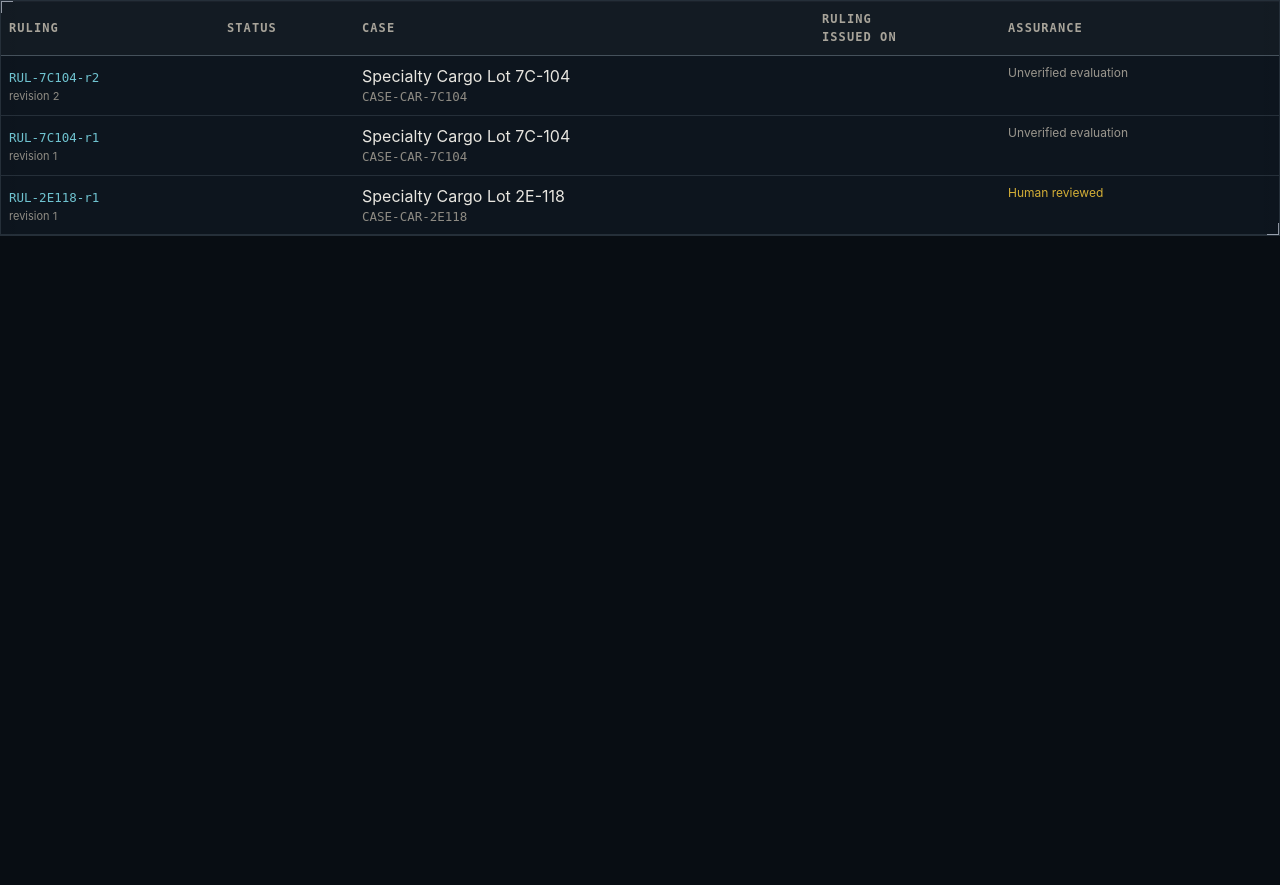
a selection is a link here too › moves through the register with the arrow keys
Click the button "RUL-7C104-r2 revision 2". click: click(110, 84)
box: left=9, top=64, right=211, bottom=104
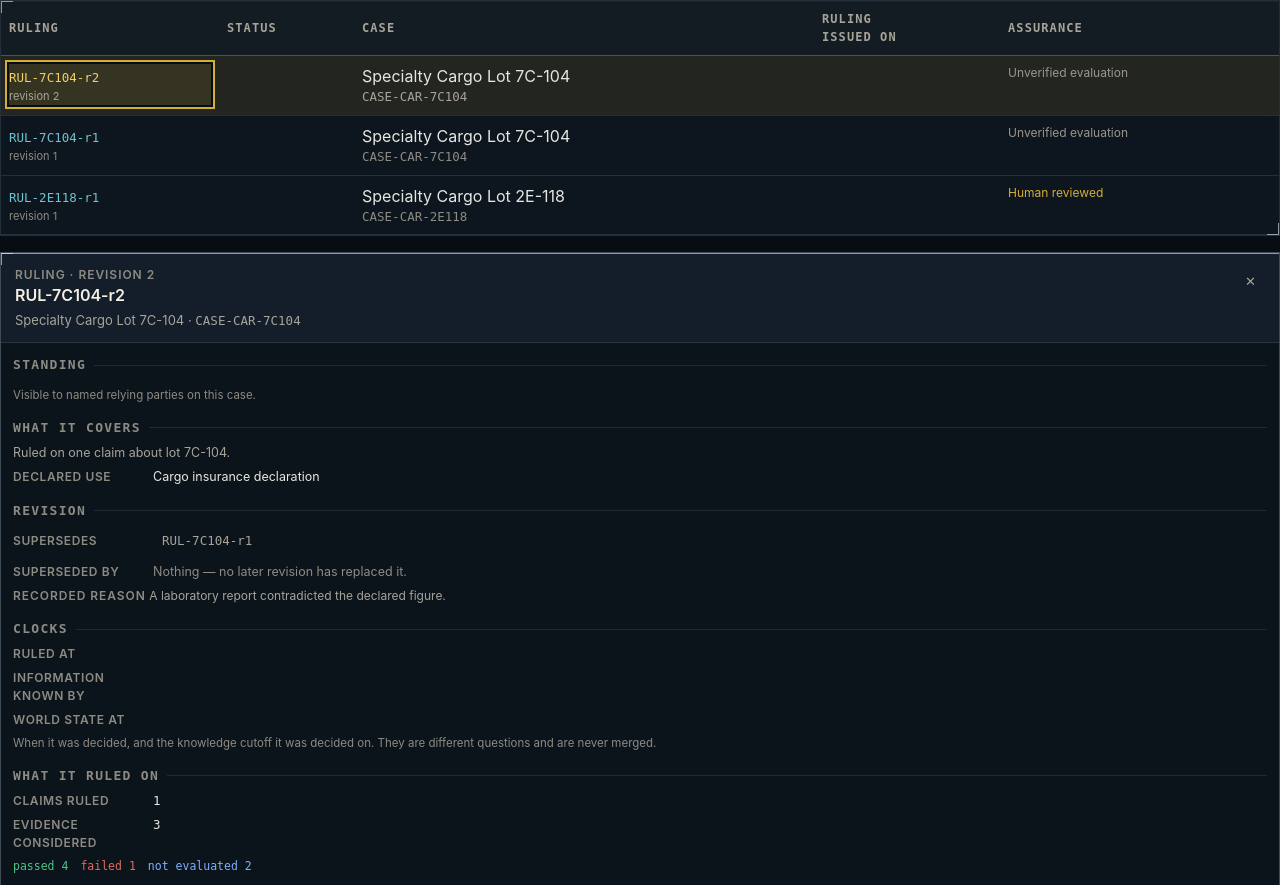
Press Arrowdown
(page scrolled)
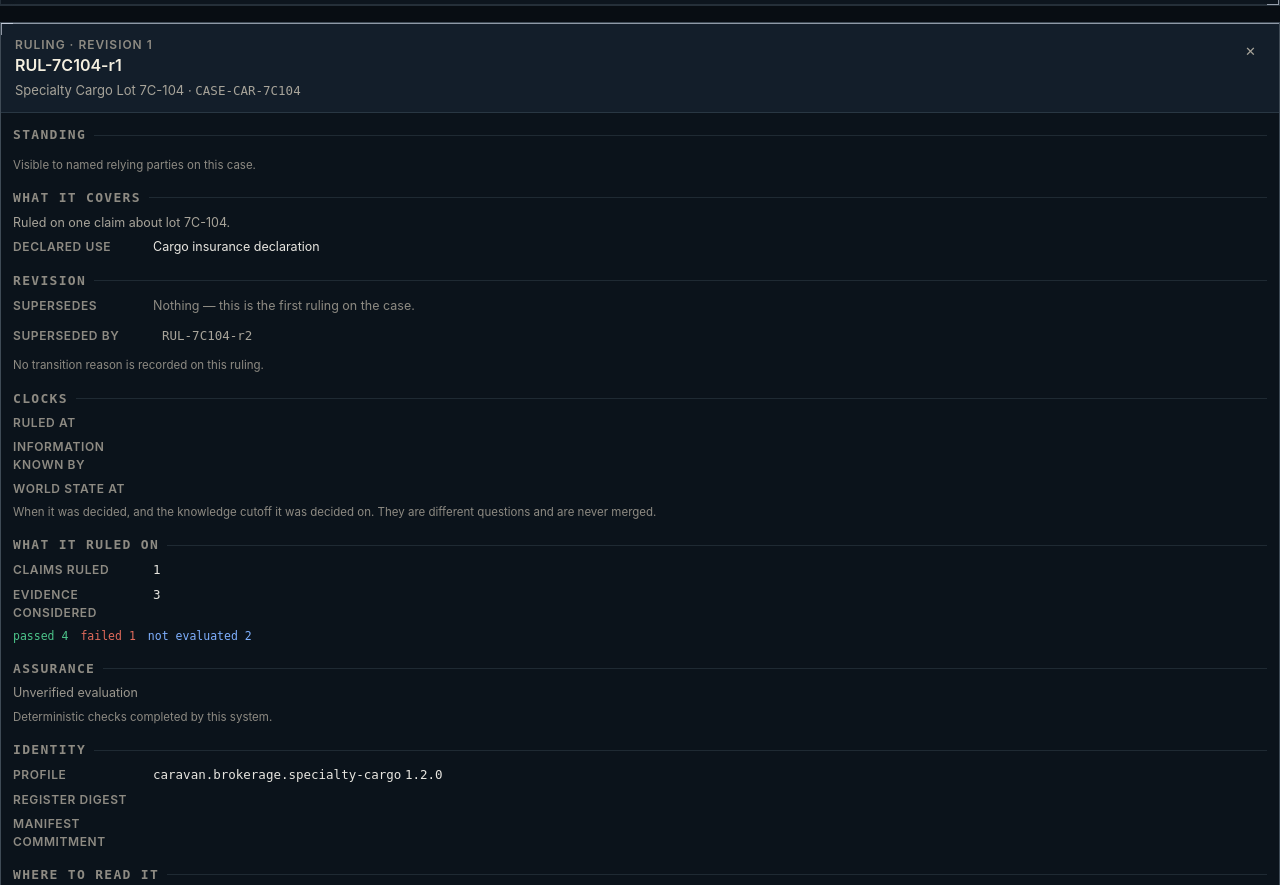
Now the element with test id "ruling-inspector" shows "RUL-7C104-r1", box left=15, top=55, right=122, bottom=75
Press End
(page scrolled)
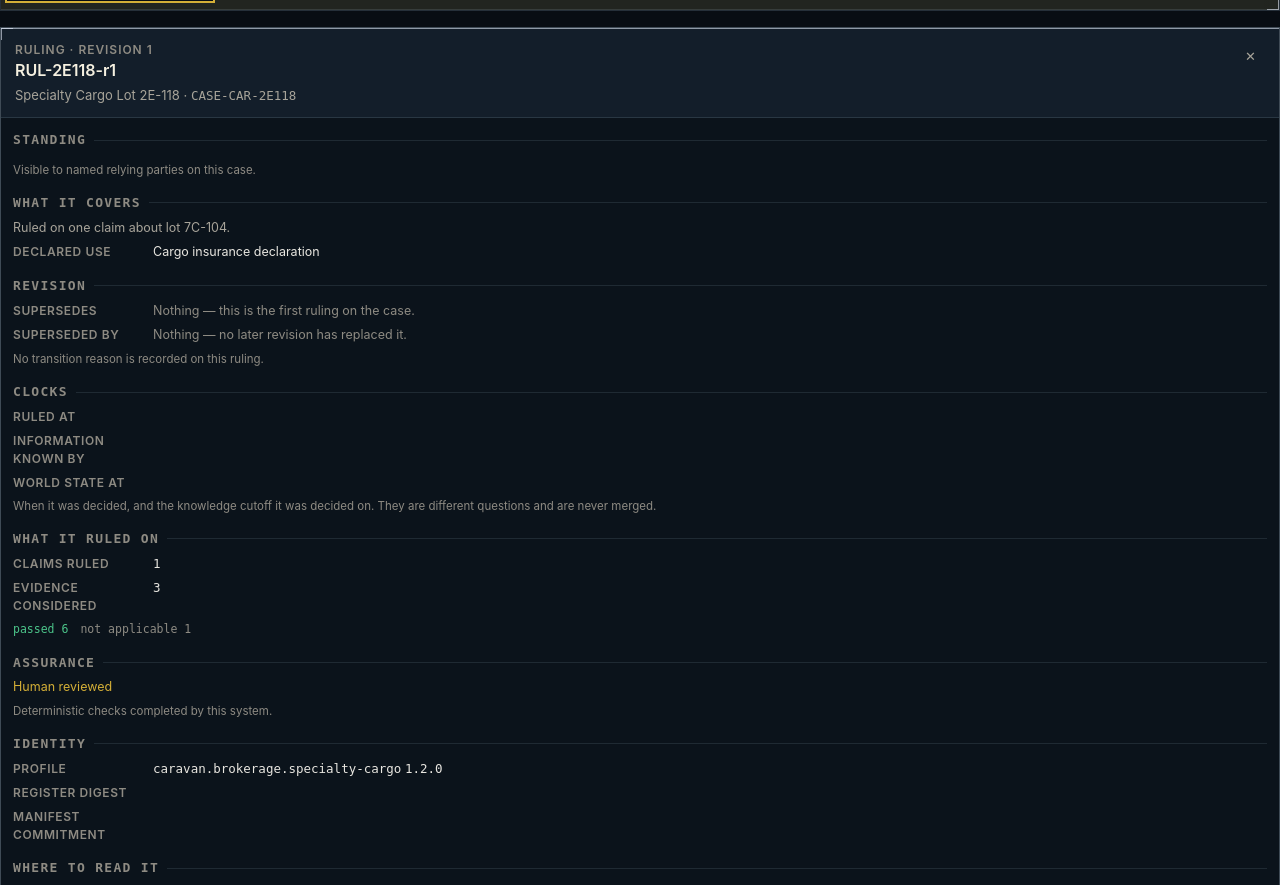
Now the element with test id "ruling-inspector" shows "RUL-2E118-r1", box left=15, top=60, right=116, bottom=80
Press Home
(page scrolled)
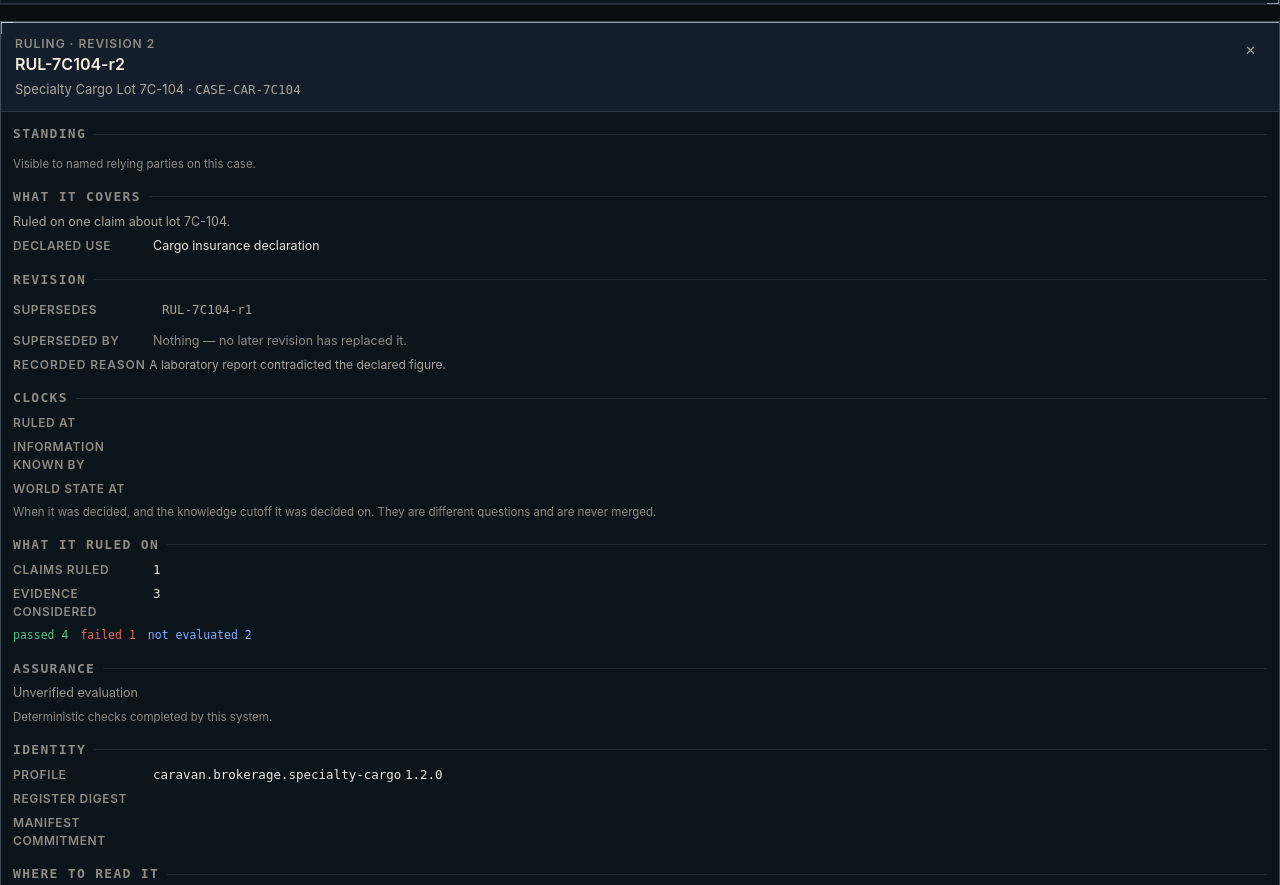
Now the element with test id "ruling-inspector" shows "RUL-7C104-r2", box left=15, top=54, right=125, bottom=74
